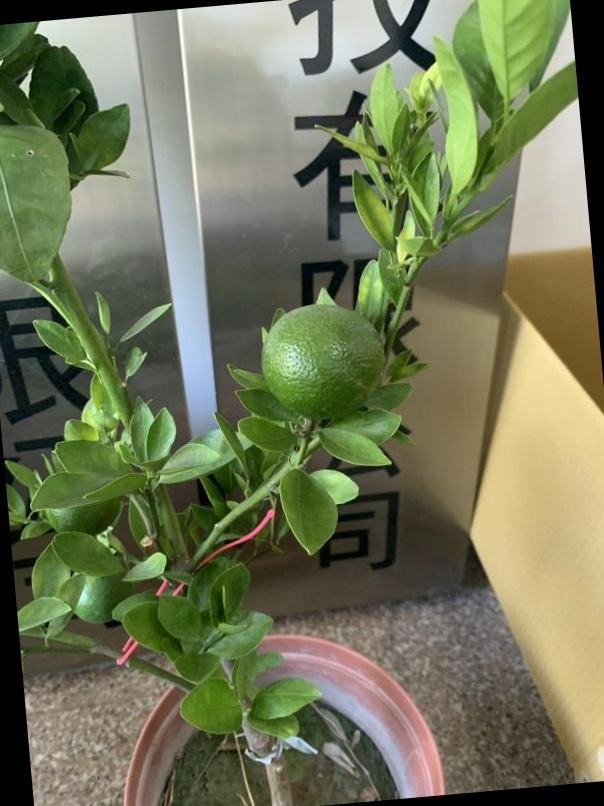Tangerine: (264, 298, 392, 421)
